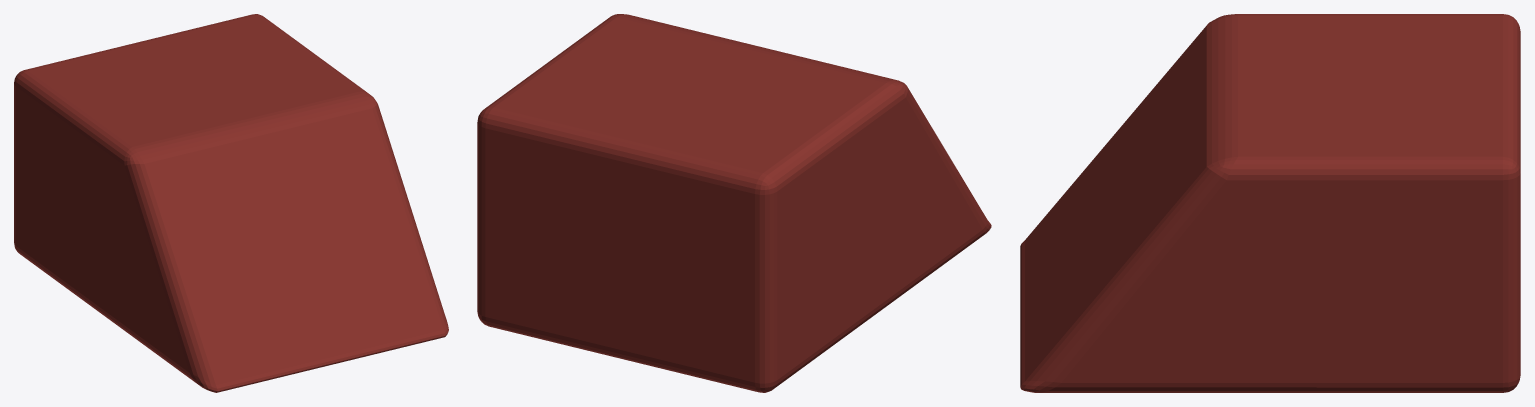
File: Phone.glb
3 views of the same model, side by side, from view 1: azimuth 30°, elevation 25°; view 2: azimuth 150°, elevation 25°; view 3: azimuth 270°, elevation 25° (orthographic). The views are drawn at different scales.
Parts seen in each view (by area): view 1: Phone; view 2: Phone; view 3: Phone.
Boxes of the visible parts, x1,y1,x2,y2 form: Phone: (14,14,448,392); Phone: (477,14,991,392); Phone: (1020,14,1520,392).
Size of the model in its own units: 2 by 1.4 by 2.71.
